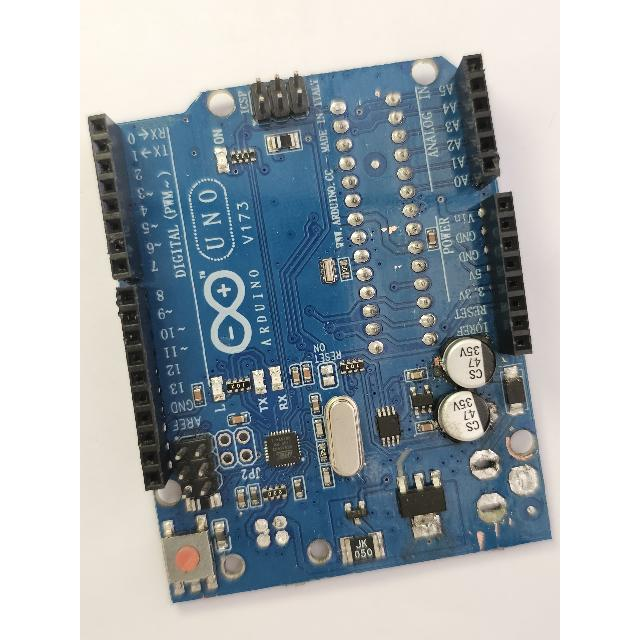missing_atmega: (323, 87, 451, 360)
missing_eps: (454, 438, 536, 540)
missing_usb: (230, 494, 342, 587)
